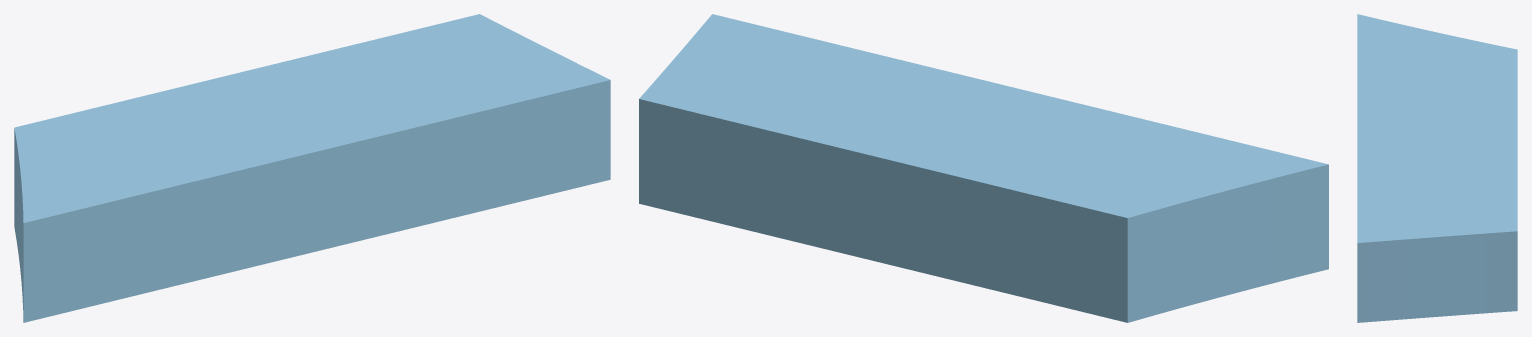
File: Collision-Pitch-Assembly-Left.dae
3 views of the same model, side by side, from view 1: azimuth 30°, elevation 25°; view 2: azimuth 150°, elevation 25°; view 3: azimuth 270°, elevation 25° (orthographic). The views are drawn at different scales.
Visible parts, largest first — view 1: ID2; view 2: ID2; view 3: ID2.
Part boxes in pixels (bbox=[...]): ID2: bbox=[14, 14, 610, 322]; ID2: bbox=[639, 14, 1328, 322]; ID2: bbox=[1357, 14, 1517, 322].
Bounding box in the file's own units: 0.3386 × 0.1002 × 0.055.
